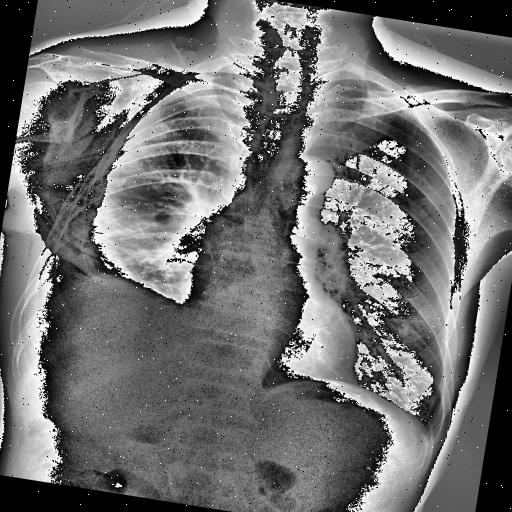0- Aortic enlargement: (282, 151, 336, 200)
10- Pleural effusion: (30, 140, 230, 350), (34, 160, 218, 368), (17, 178, 210, 366)
4- Consolidation: (82, 191, 202, 304)
7- Lung Opacity: (94, 164, 224, 290), (82, 191, 202, 304), (100, 172, 218, 284)
